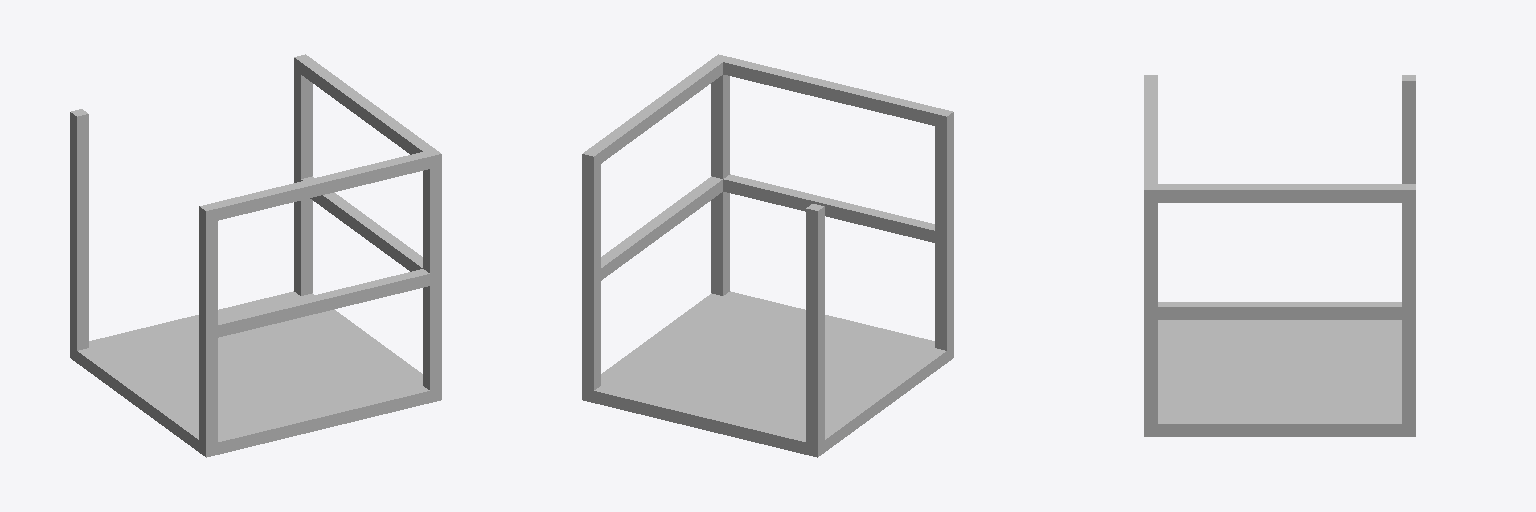
Rendered from platform L with dot.obj.
3 views of the same model, side by side, from view 1: azimuth 30°, elevation 25°; view 2: azimuth 150°, elevation 25°; view 3: azimuth 270°, elevation 25° (orthographic).
Parts seen in each view (by area): view 1: object 1; view 2: object 1; view 3: object 1.
Part boxes in pixels (x1,y1,x2,y2): object 1: (70,54,441,457); object 1: (582,54,953,457); object 1: (1144,75,1415,436).
Bounding box in the file's own units: 4 × 4 × 4.